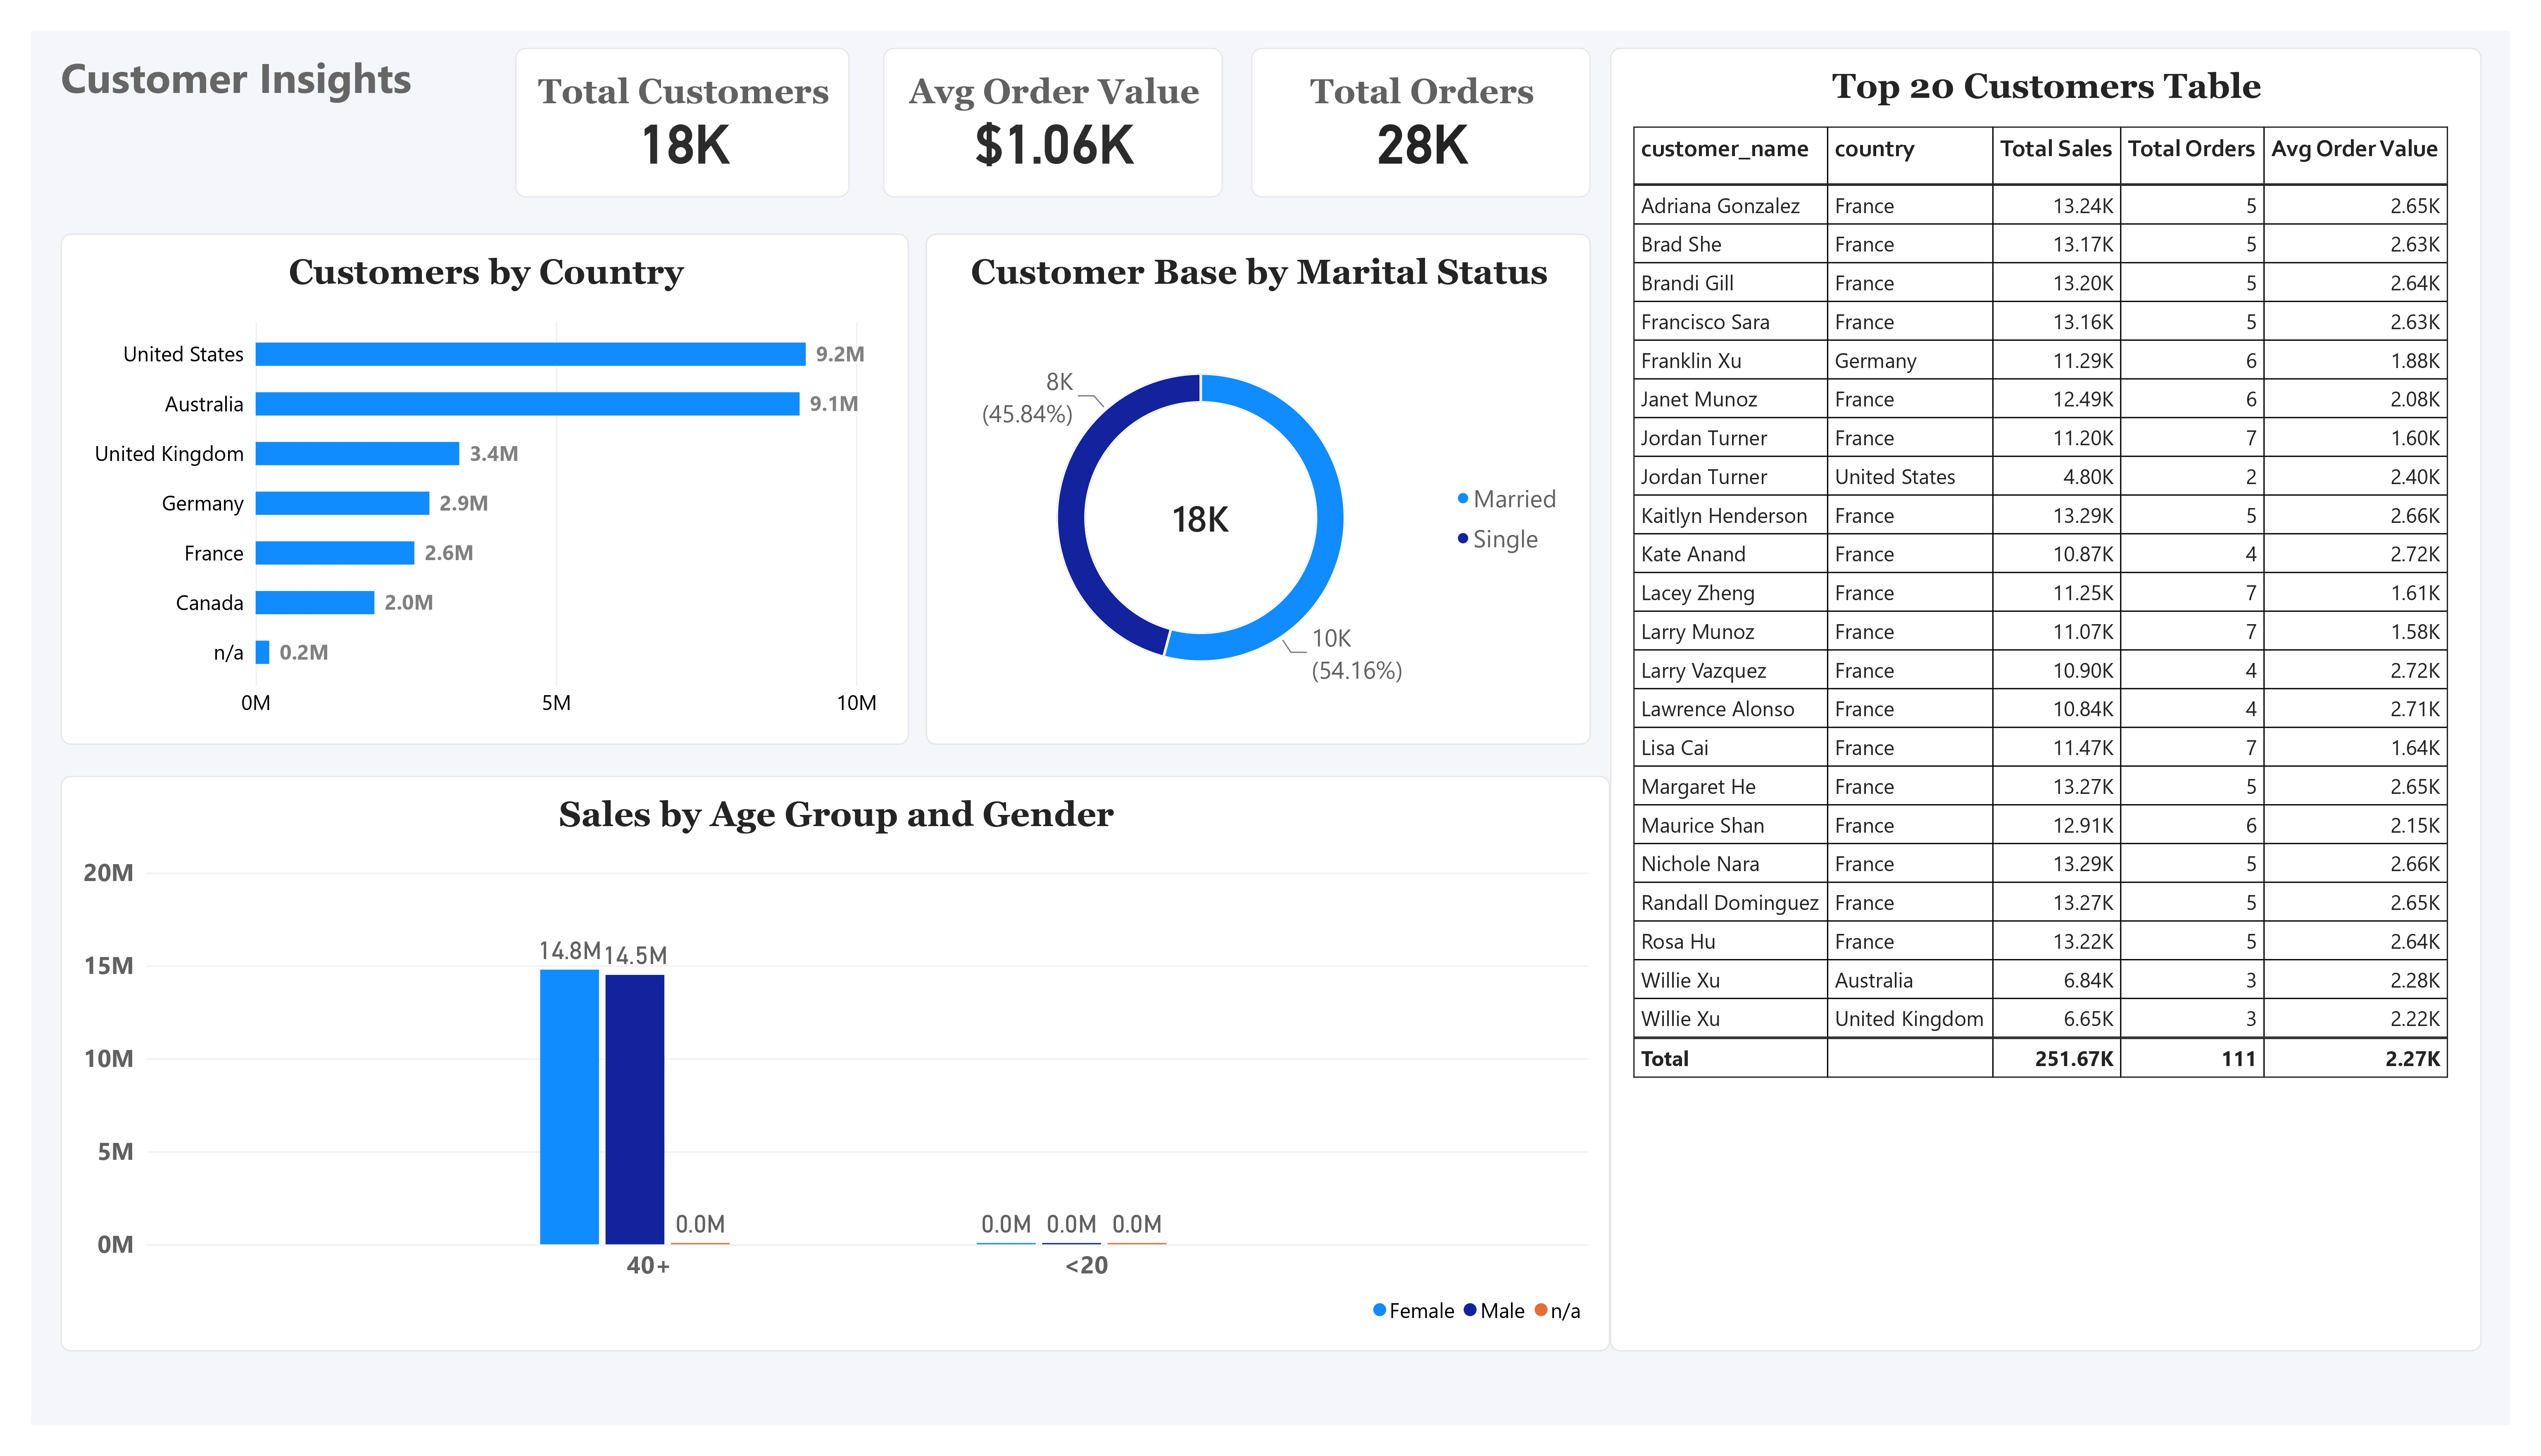

This screenshot's page, from the dashboard's own definition file:
{"tool":"powerbi","page":{"name":"Customer Insights","canvas":[1920,1080],"ordinal":2},"visuals":[{"type":"cardVisual","fields":{"Data":["_Measures.Avg Order Value"]},"box":[660,13.3,262.9,115.7],"z":0},{"type":"cardVisual","fields":{"Data":["_Measures.Total Orders"]},"box":[945,13.3,262.9,115.7],"z":1000},{"type":"barChart","title":"Customers by Country","fields":{"Category":["dim_customers.country"],"Y":["_Measures.Total Sales"]},"box":[23.3,156.7,656.7,396.7],"z":2000},{"type":"donutChart","title":"Customer Base by Marital Status","fields":{"Category":["dim_customers.marital_status"],"Y":["_Measures.Total Customers"]},"box":[693.3,156.7,515,396.7],"z":3000},{"type":"textbox","box":[23.3,13.1,404.1,59.8],"z":4000},{"type":"cardVisual","fields":{"Data":["_Measures.Total Customers"]},"box":[375,13.3,258.6,115.7],"z":5000},{"type":"clusteredColumnChart","title":"Sales by Age Group and Gender","fields":{"Category":["dim_customers.Age Band"],"Series":["dim_customers.gender"],"Y":["_Measures.Total Sales"]},"box":[23.3,576.7,1200,446.7],"z":6000},{"type":"tableEx","title":"Top 20 Customers Table","fields":{"Values":["dim_customers.customer_name","dim_customers.country","_Measures.Total Sales","_Measures.Total Orders","_Measures.Avg Order Value"]},"box":[1223.3,13.3,675,1010],"z":7000}]}

Visuals, with their boxes on the page's 1920x1080 design canvas (x1, y1, x2, y2). These are canvas units, not pixel positions in the 2541x1456 screenshot, which may show the page scaled, cropped or inside an application window:
cardVisual - _Measures.Avg Order Value: detection(660, 13, 923, 129)
cardVisual - _Measures.Total Orders: detection(945, 13, 1208, 129)
"Customers by Country" barChart: detection(23, 157, 680, 553)
"Customer Base by Marital Status" donutChart: detection(693, 157, 1208, 553)
textbox: detection(23, 13, 427, 73)
cardVisual - _Measures.Total Customers: detection(375, 13, 634, 129)
"Sales by Age Group and Gender" clusteredColumnChart: detection(23, 577, 1223, 1023)
"Top 20 Customers Table" tableEx: detection(1223, 13, 1898, 1023)
